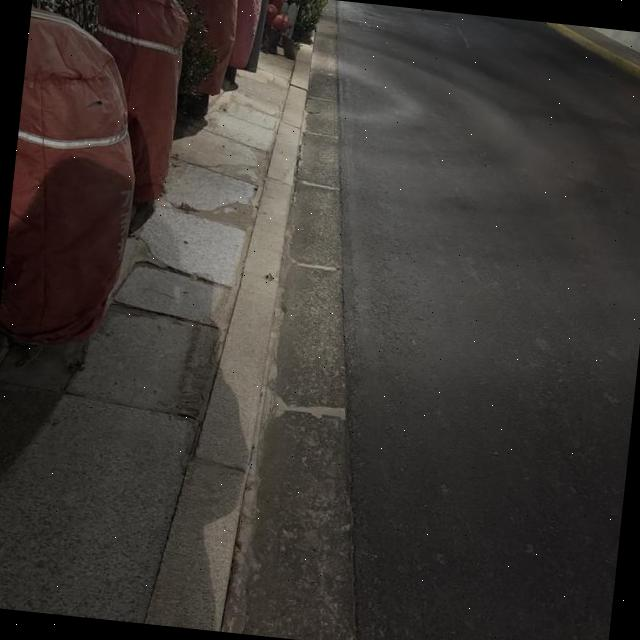curb: (221, 0, 354, 640)
